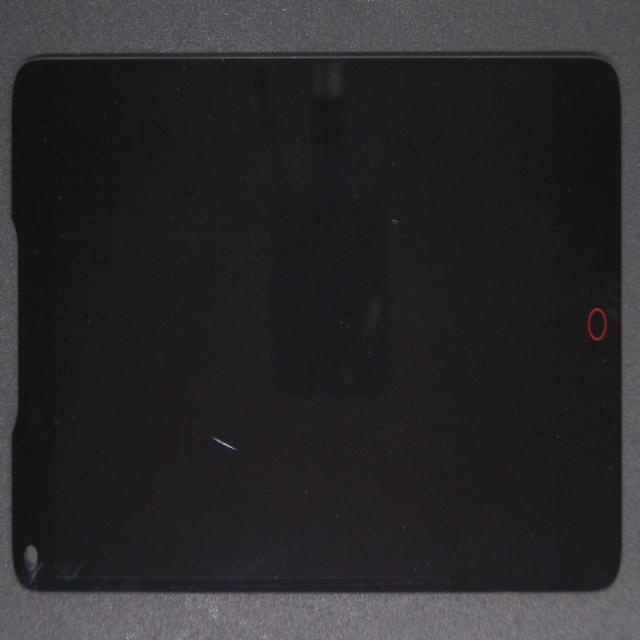scratch: (105, 176, 306, 640)
